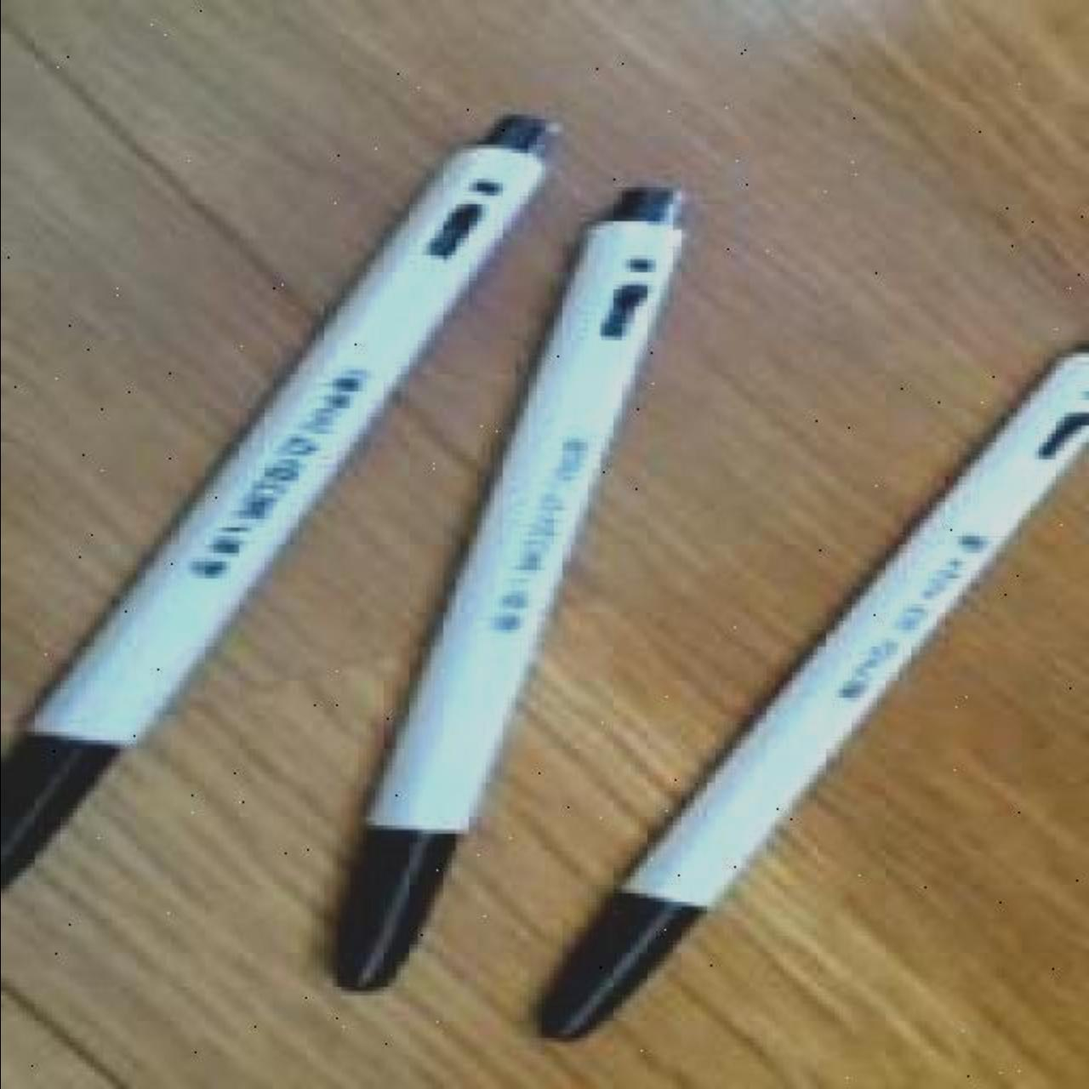pen: (0, 116, 570, 895), (527, 340, 1089, 1043), (323, 187, 698, 992)
